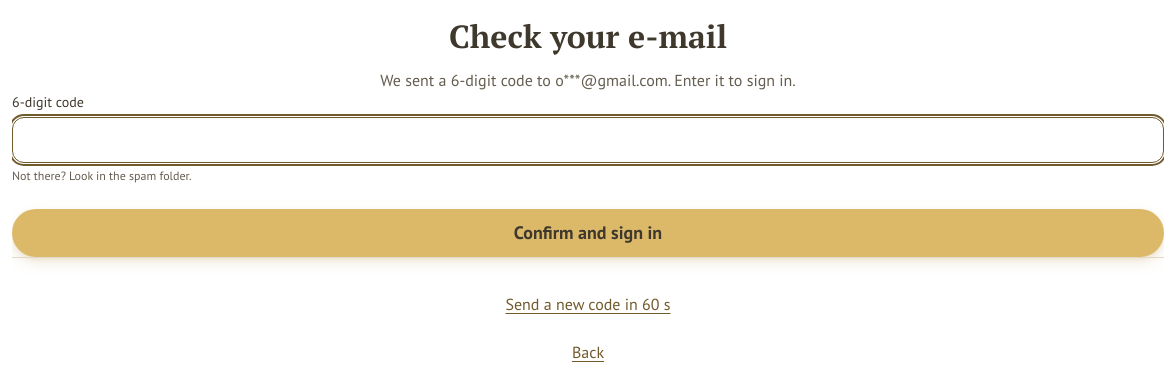
Scenario: EmailCodeForm › keeps only digits and at most six of them
The width and height of the screenshot is (1176, 379).
Type "12a3 4-5678" into the field labelled "6-digit code" at (588, 140), box top-left (12, 117), bottom-right (1164, 163)
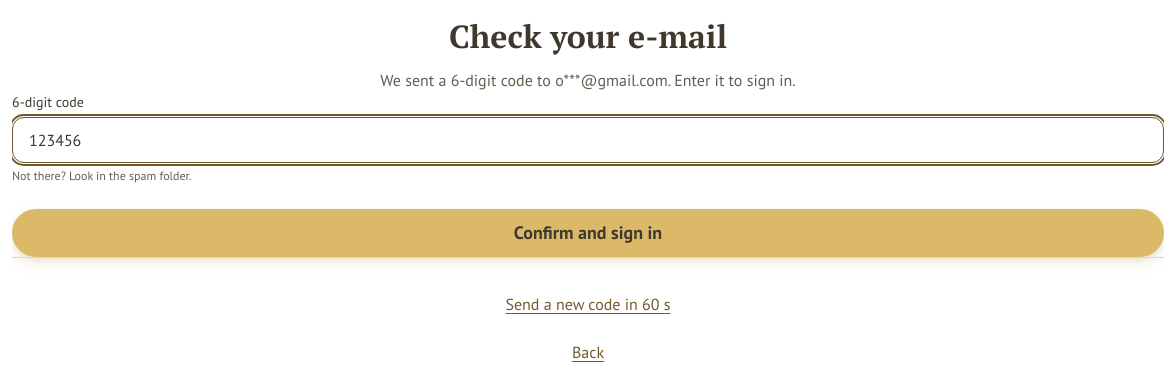
Expected: the field labelled "6-digit code" holds "123456", top-left (12, 117), bottom-right (1164, 163)
